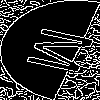M: (25, 25, 100, 79)
